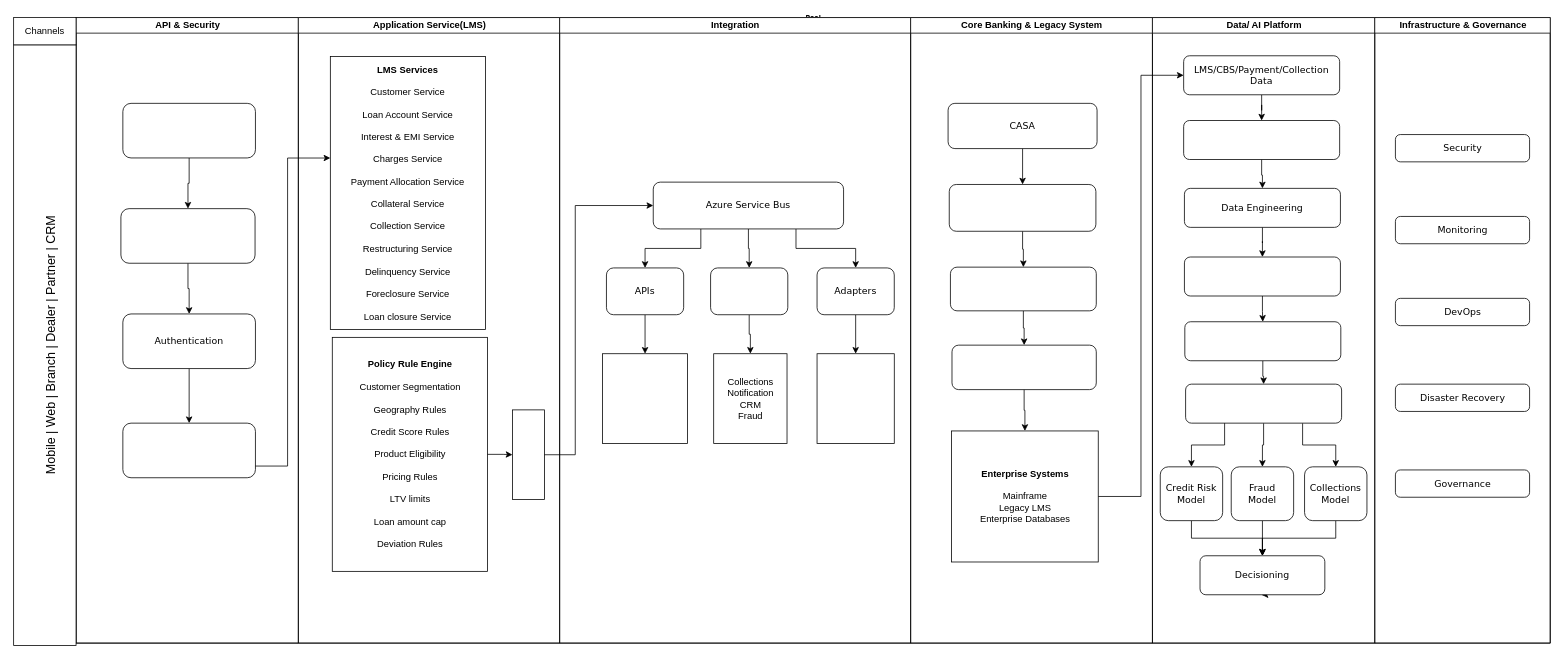
This 1564x659 diagram has some shape labels left out. The centre of each missing label's shape, as x and y in pixels:
"API Management" belongs at (x=187, y=235).
"Azure Data Lake" belongs at (x=1261, y=140).
"AZure Front Door / WAF" belongs at (x=188, y=130).
"Azure Machine Learning" belongs at (x=1263, y=403).
"Core Banking NACH UPI/NEFT/RTGS" belongs at (x=855, y=398).
"Credit Bureau Digital KYC Insurance Asset Valuation" belongs at (x=645, y=398).
"Data Warehouse" belongs at (x=1262, y=276).
"Decision" belongs at (x=528, y=454).
"Events" belongs at (x=749, y=291).
"Feature Engineering" belongs at (x=1262, y=341).
"Microsoft Entra ID" belongs at (x=188, y=450).
"Payments NACH/RTGS" belongs at (x=1022, y=207).
"Posting Financial Transaction" belongs at (x=1023, y=288).
"Update Loan Ledger/ Account Balance" belongs at (x=1023, y=367).
